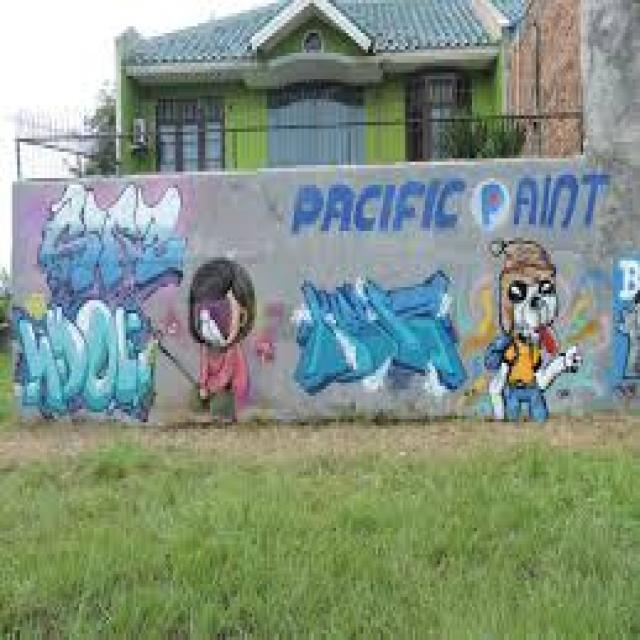-: (13, 182, 184, 421), (294, 268, 470, 392), (484, 238, 584, 422), (293, 176, 612, 232), (189, 256, 253, 408), (611, 254, 640, 399)
